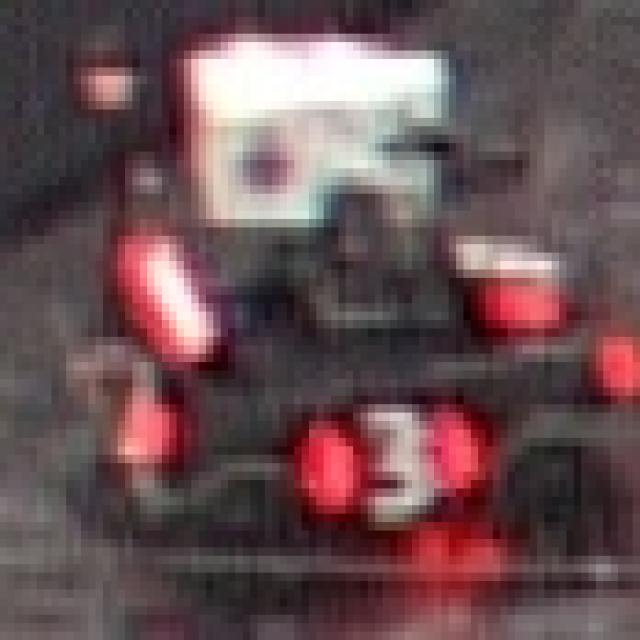R3: (287, 362, 493, 531)
